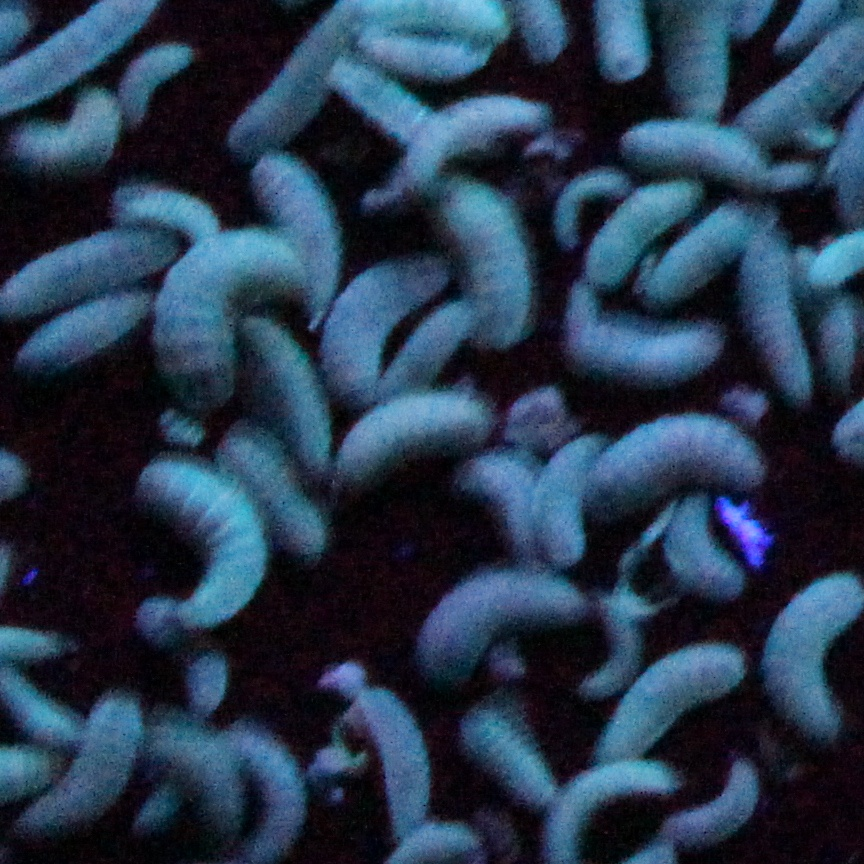larve: (125, 464, 265, 628), (318, 382, 479, 496), (172, 221, 275, 396), (558, 300, 725, 396), (415, 564, 579, 660), (15, 703, 136, 828), (436, 185, 547, 315), (768, 582, 850, 753), (725, 228, 808, 396), (583, 421, 758, 500), (25, 268, 158, 371), (4, 225, 165, 310), (600, 643, 725, 750), (547, 760, 672, 864), (361, 675, 433, 846), (1, 115, 121, 190), (620, 120, 773, 178), (123, 36, 207, 133), (287, 159, 340, 310), (250, 37, 331, 134), (25, 22, 123, 88), (468, 468, 529, 550), (342, 56, 399, 142), (130, 177, 216, 230), (398, 40, 494, 77)
